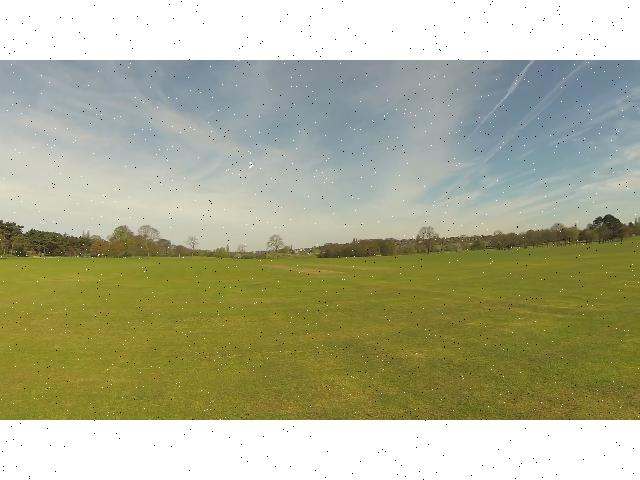Anti-Drone: (240, 154, 260, 176)
